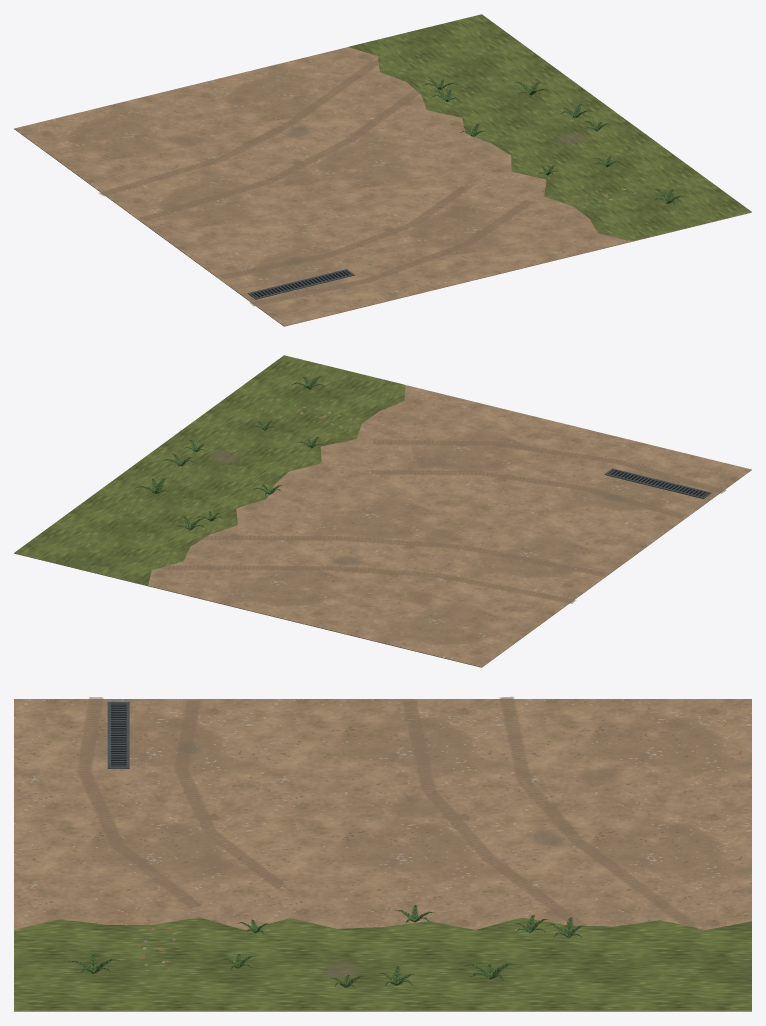
The model's file is ground_w.glb.
3 renders of one model, top to bottom at view 1: azimuth 30°, elevation 25°; view 2: azimuth 150°, elevation 25°; view 3: azimuth 270°, elevation 25°, orthographic. The views are drawn at different scales.
Parts seen in each view (by area): view 1: ground_w_dirt, ground_w_decals, ground_w_grates; view 2: ground_w_dirt, ground_w_decals, ground_w_grates; view 3: ground_w_dirt, ground_w_decals, ground_w_grates.
Part boxes in pixels (x1=…): ground_w_dirt: x1=14, y1=14, x2=751, y2=326; ground_w_decals: x1=98, y1=59, x2=643, y2=306; ground_w_grates: x1=247, y1=269, x2=354, y2=299; ground_w_dirt: x1=14, y1=355, x2=751, y2=667; ground_w_decals: x1=159, y1=405, x2=726, y2=605; ground_w_grates: x1=604, y1=468, x2=711, y2=498; ground_w_dirt: x1=14, y1=699, x2=751, y2=1011; ground_w_decals: x1=76, y1=696, x2=696, y2=979; ground_w_grates: x1=107, y1=702, x2=129, y2=768.
Bounding box in the file's own units: 11.89 × 0.2734 × 11.8.
7 materials, 7 textured.
